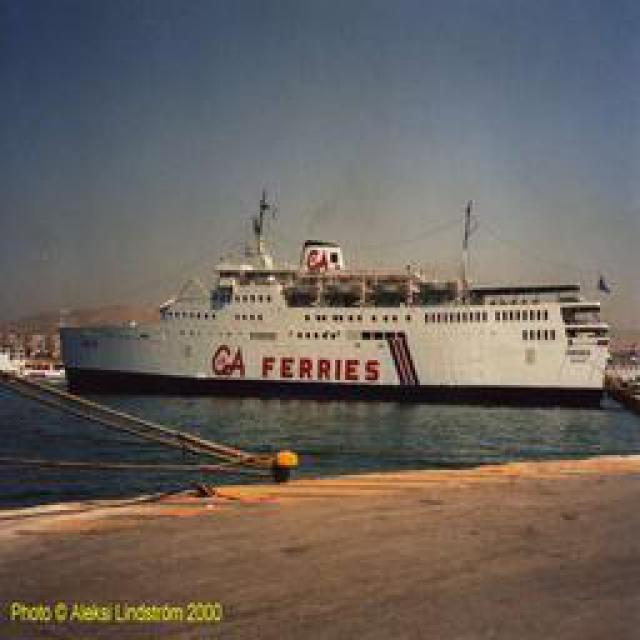Ship: (49, 177, 624, 397)
